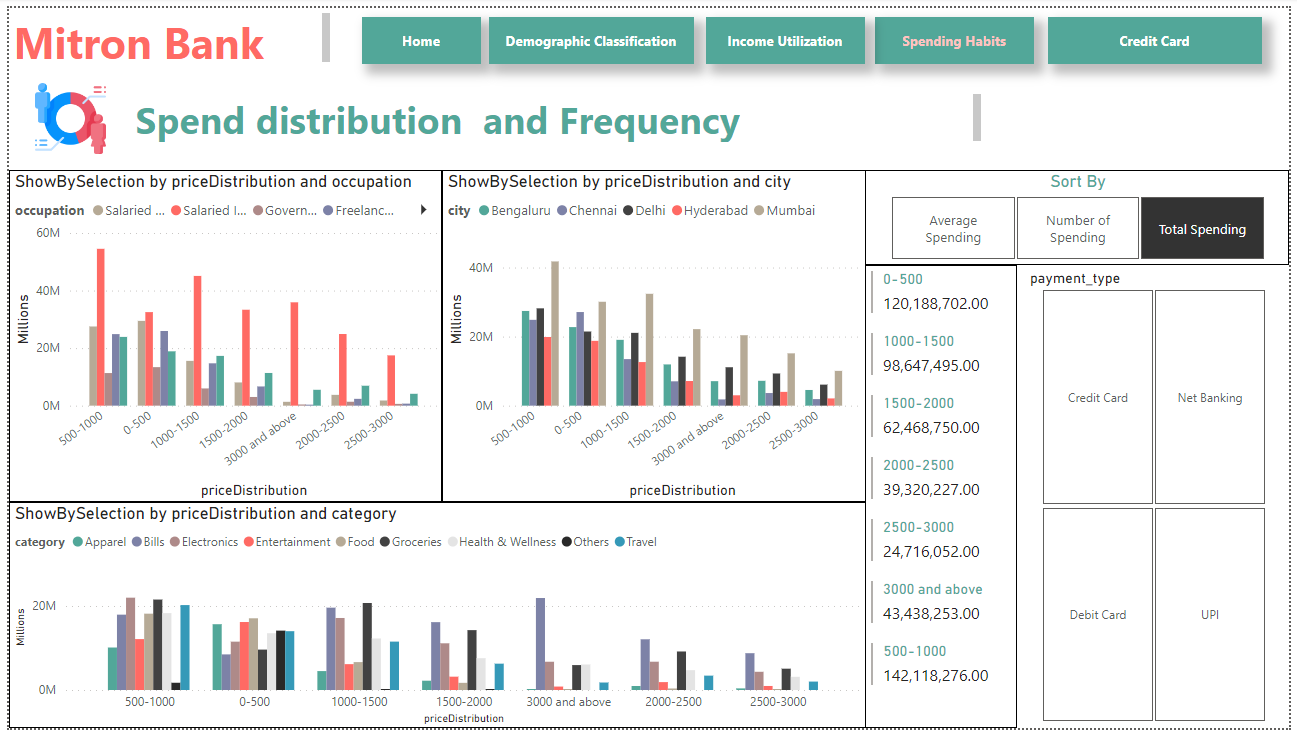

This screenshot's page, from the dashboard's own definition file:
{"tool":"powerbi","page":{"name":"Spending Habit Analysis","canvas":[1280,720],"ordinal":3},"visuals":[{"type":"textbox","box":[122.1,80.9,854.7,58.2],"z":0,"group":"g1"},{"type":"clusteredColumnChart","fields":{"Category":["fact_spends.priceDistribution"],"Series":["dim_customers.occupation"],"Y":["fact_spends.ShowBySelection"]},"box":[0,162,433,332],"z":0},{"type":"image","box":[0,70.1,122.1,80.9],"z":1000,"group":"g1"},{"type":"clusteredColumnChart","fields":{"Category":["fact_spends.priceDistribution"],"Series":["dim_customers.city"],"Y":["fact_spends.ShowBySelection"]},"box":[433,162,424,332],"z":1000},{"type":"actionButton","title":"Home","box":[353,9,119,47],"z":2000,"group":"g1"},{"type":"slicer","title":"Sort By","fields":{"Values":["ShowByOption.Column1"]},"box":[856,162,424,95],"z":2000},{"type":"textbox","box":[0,0,326,70.1],"z":3000,"group":"g1"},{"type":"clusteredColumnChart","fields":{"Category":["fact_spends.priceDistribution"],"Y":["fact_spends.ShowBySelection"],"Series":["fact_spends.category"]},"box":[0,494,857,226],"z":3000},{"type":"actionButton","title":"Home","box":[866,9,159,47],"z":4000,"group":"g1"},{"type":"multiRowCard","fields":{"Values":["fact_spends.priceDistribution","fact_spends.ShowBySelection"]},"box":[856,257,152,463],"z":4000},{"type":"actionButton","title":"Home","box":[480,9,205,47],"z":5000,"group":"g1"},{"type":"slicer","fields":{"Values":["fact_spends.payment_type"]},"box":[1008,257,272,463],"z":5000},{"type":"group","id":"g1","title":"Group 1","box":[0,0,1253,151],"z":6000},{"type":"actionButton","title":"Home","box":[697,9,159,47],"z":6000,"group":"g1"},{"type":"actionButton","title":"Home","box":[1039,9,214,47],"z":7000,"group":"g1"}]}

Visuals, with their boxes in screenshot pixels (x1, y1, x2, y2), scaled from the page's 1280x720 canvas onto the 1297x736 screenshot:
textbox: x1=124, y1=83, x2=990, y2=142
clusteredColumnChart - fact_spends.priceDistribution x dim_customers.occupation: x1=0, y1=166, x2=439, y2=505
image: x1=0, y1=72, x2=124, y2=154
clusteredColumnChart - fact_spends.priceDistribution x dim_customers.city: x1=439, y1=166, x2=868, y2=505
"Home" actionButton: x1=358, y1=9, x2=478, y2=57
"Sort By" slicer: x1=867, y1=166, x2=1296, y2=263
textbox: x1=0, y1=0, x2=330, y2=72
clusteredColumnChart - fact_spends.priceDistribution x fact_spends.ShowBySelection: x1=0, y1=505, x2=868, y2=735
"Home" actionButton: x1=878, y1=9, x2=1039, y2=57
multiRowCard - fact_spends.priceDistribution x fact_spends.ShowBySelection: x1=867, y1=263, x2=1021, y2=735
"Home" actionButton: x1=486, y1=9, x2=694, y2=57
slicer - fact_spends.payment_type: x1=1021, y1=263, x2=1296, y2=735
"Group 1" group: x1=0, y1=0, x2=1270, y2=154
"Home" actionButton: x1=706, y1=9, x2=867, y2=57
"Home" actionButton: x1=1053, y1=9, x2=1270, y2=57
